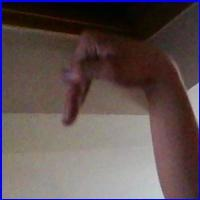del: (61, 26, 176, 134)
